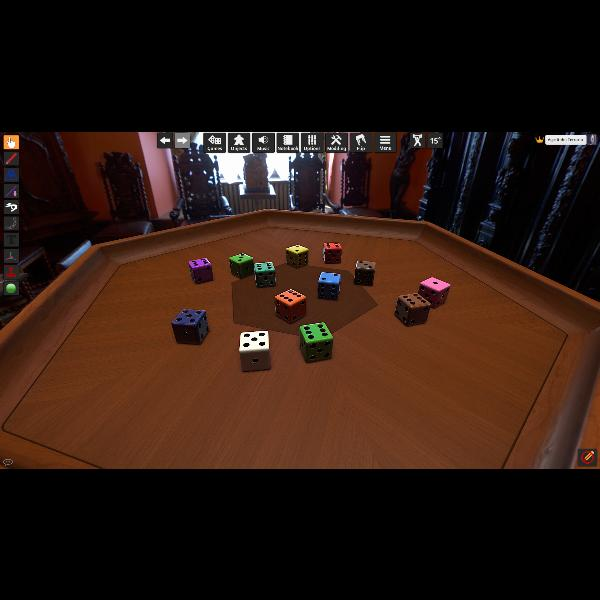d6: (238, 329, 272, 371), (171, 308, 209, 344), (299, 322, 331, 362), (394, 292, 430, 326), (274, 288, 306, 324), (418, 276, 450, 308), (188, 258, 212, 284), (229, 253, 253, 279), (318, 272, 340, 300), (254, 261, 276, 287), (286, 244, 308, 268), (354, 260, 374, 286), (324, 242, 343, 264)
